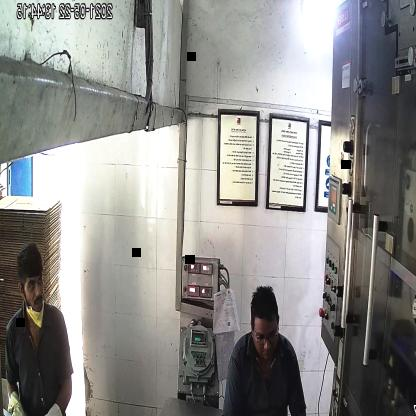goggles: (250, 322, 280, 349)
no_goggles: (21, 273, 46, 297)
